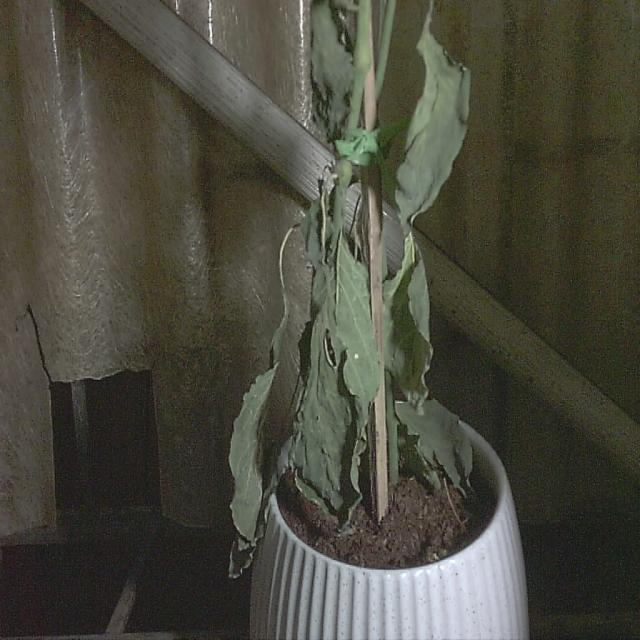Leaf: (393, 37, 472, 233), (228, 314, 283, 578)
